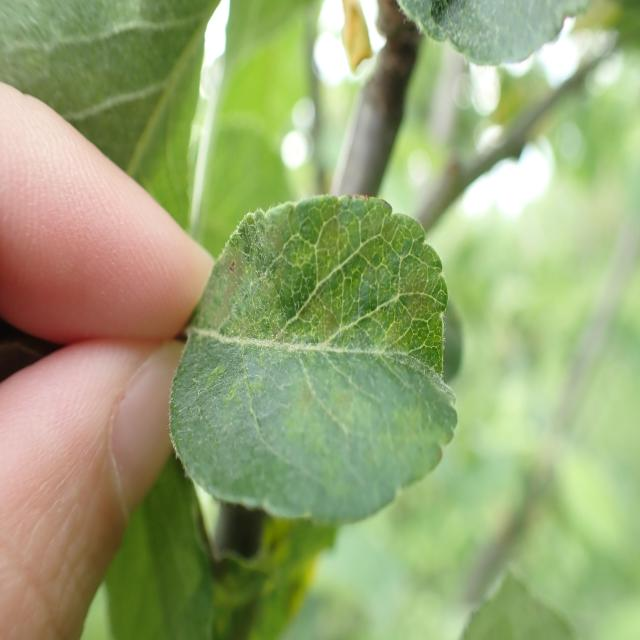scab: (180, 216, 444, 508)
